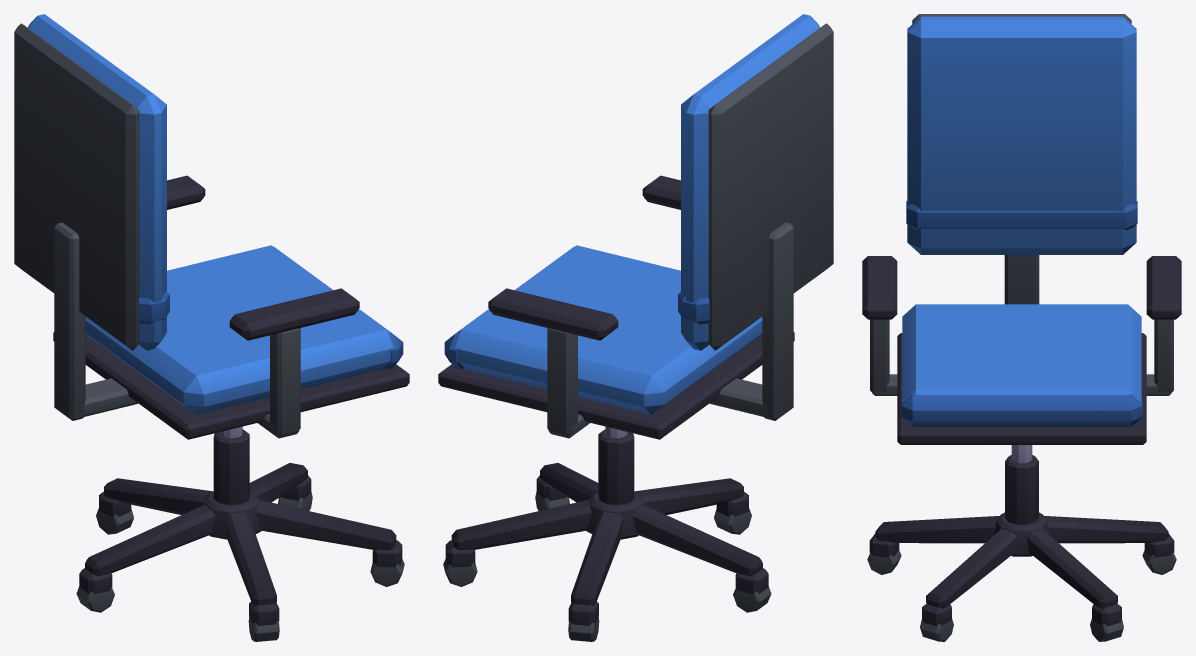
Rendered from Office_Chair_Blue.fbx.
3 views of the same model, side by side, from view 1: azimuth 30°, elevation 25°; view 2: azimuth 150°, elevation 25°; view 3: azimuth 270°, elevation 25° (orthographic). The views are drawn at different scales.
Visible parts, largest first — view 1: Office_Chair_Blue; view 2: Office_Chair_Blue; view 3: Office_Chair_Blue.
Boxes of the visible parts, x1=… form: Office_Chair_Blue: x1=14, y1=14, x2=409, y2=641; Office_Chair_Blue: x1=438, y1=14, x2=833, y2=641; Office_Chair_Blue: x1=862, y1=14, x2=1181, y2=641.
Size of the model in its own units: 2.51 by 4.47 by 2.53.
Materials: 1 (1 with a texture image).
